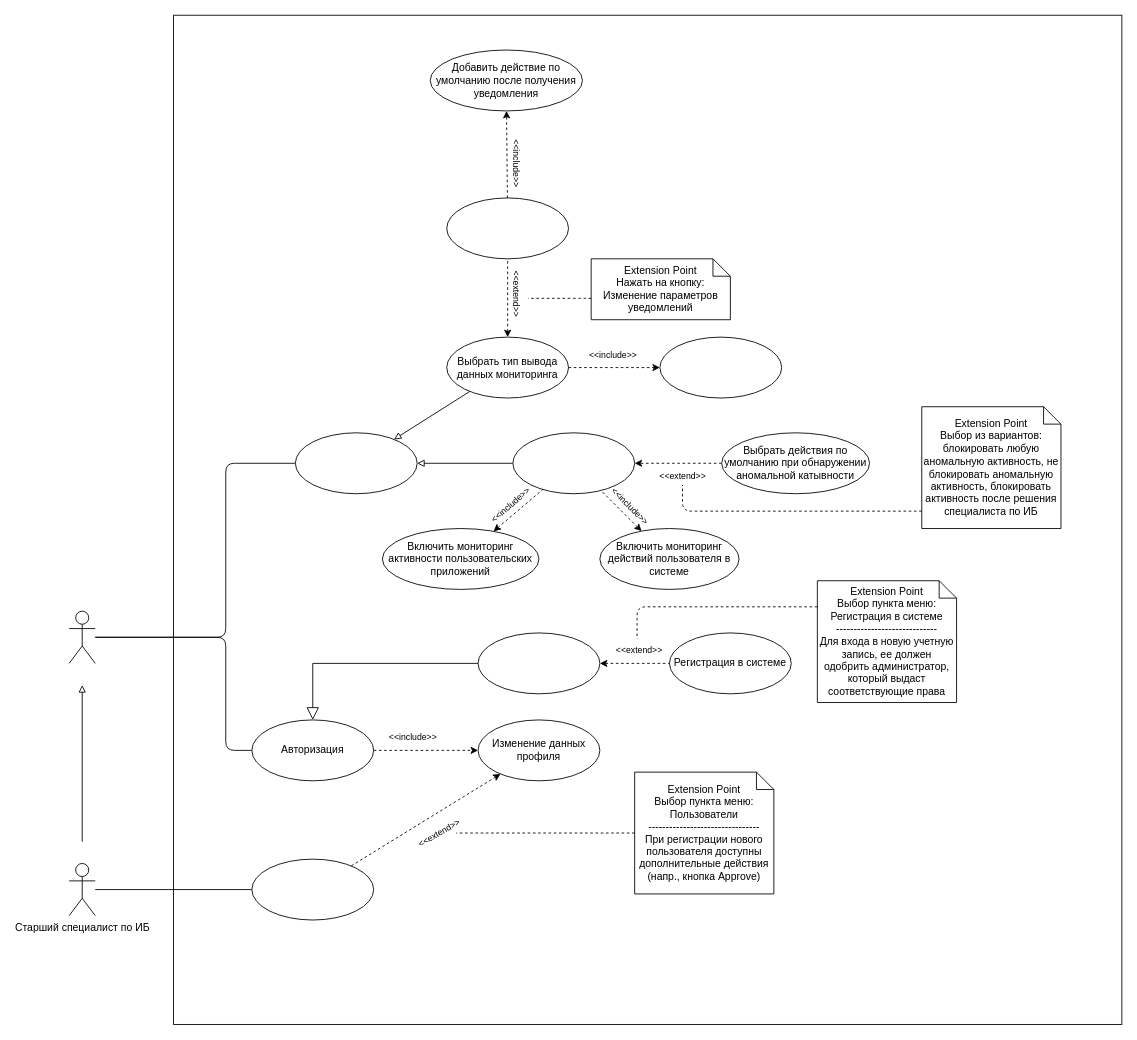
Some shapes in this 1137 by 1040 pixel diagram are drawn without their labels. Each missing label, with the centre of its shape:
"Двухфакторная аутентификация" goes at pixel 538 663.
"Изменение данных профиля другого пользователя" goes at pixel 312 889.
"Изменить параметры вывода" goes at pixel 720 367.
"Изменить параметры уведомлений при мониторенге" goes at pixel 507 228.
"Конфигурировать IDS" goes at pixel 355 463.
"Настроить режим мониторинга" goes at pixel 573 463.
"Специалист по ИБ" goes at pixel 81 636.
